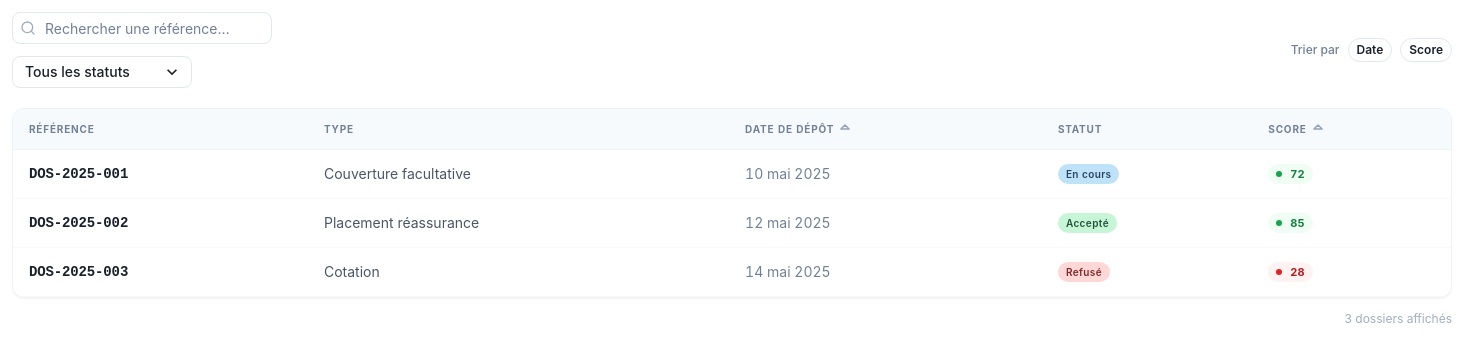
it: DossierList › filters dossiers by statut
Check: the text "DOS-2025-001" is shown, box [29,166,128,182]
Select "Accepté" in the dropdown at (102, 72), box [12,56,192,88]
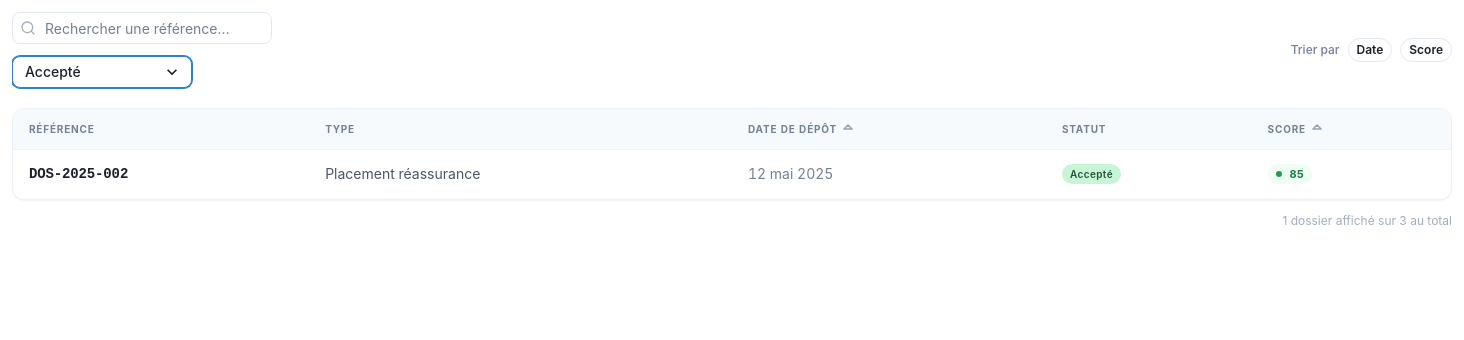
Check: the text "DOS-2025-002" is shown, box [29,166,128,182]
Check: the text "DOS-2025-001" is gone
Check: the text "DOS-2025-003" is gone
